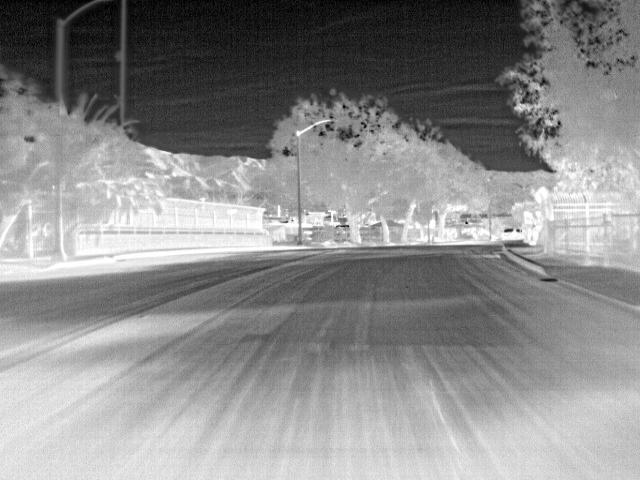car: (500, 228, 519, 241)
person: (529, 208, 545, 249), (520, 210, 532, 246)
